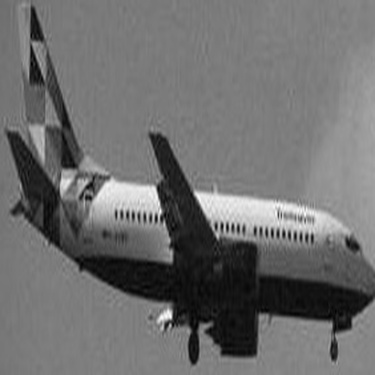airplane: (2, 1, 370, 371)
